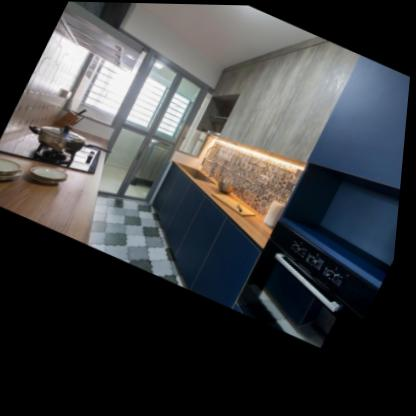Cabinet: (124, 159, 287, 307)
